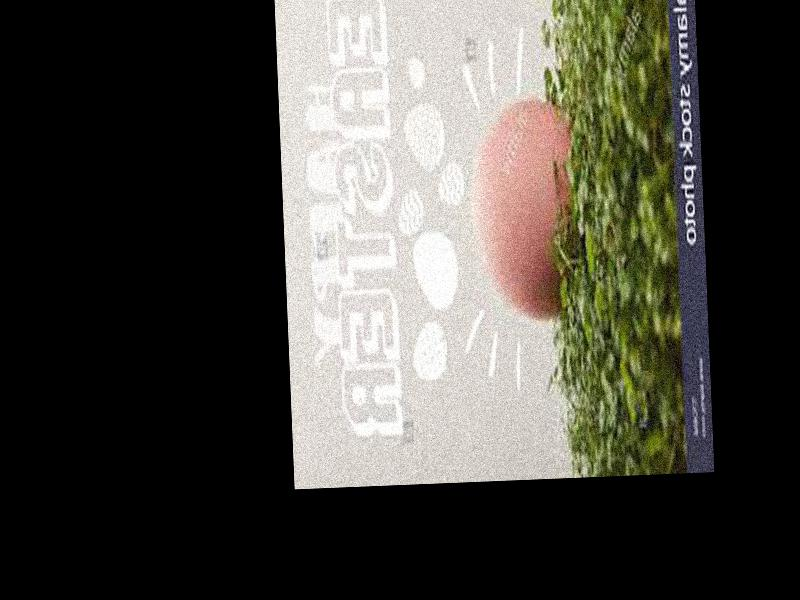Eggs: (469, 101, 578, 327)
